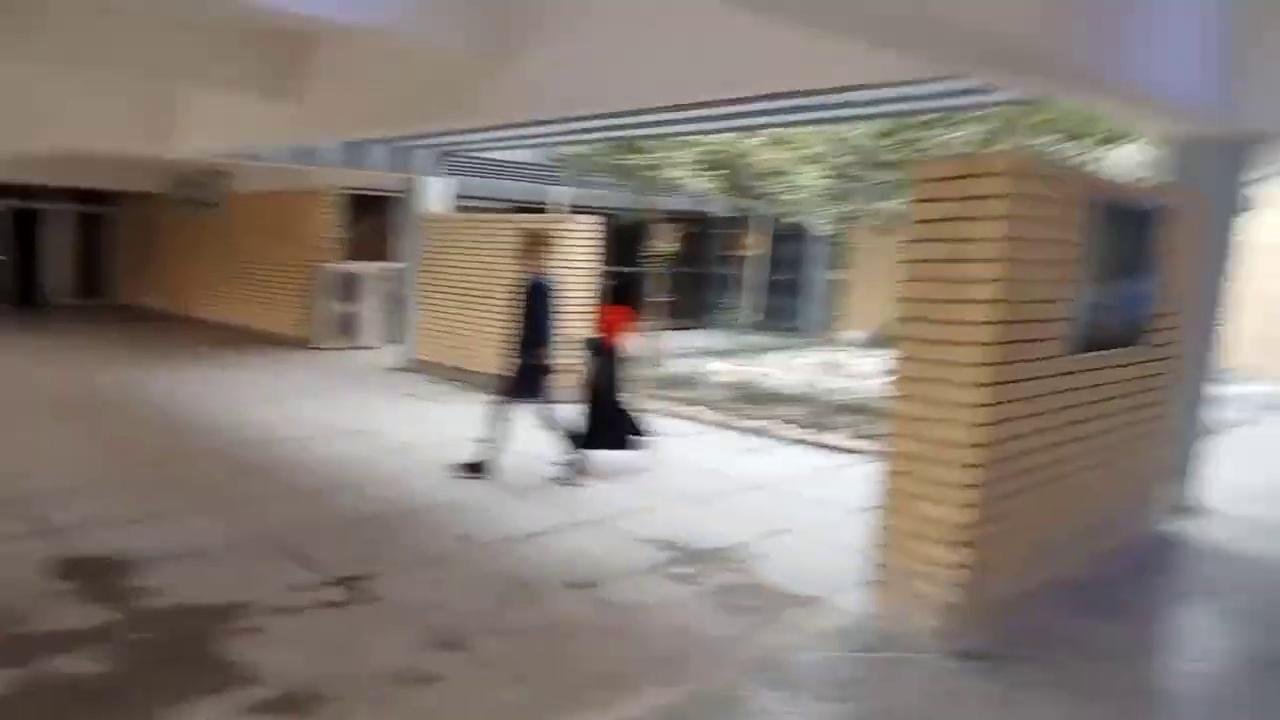person: (453, 229, 586, 483)
tree: (547, 88, 1147, 337)
